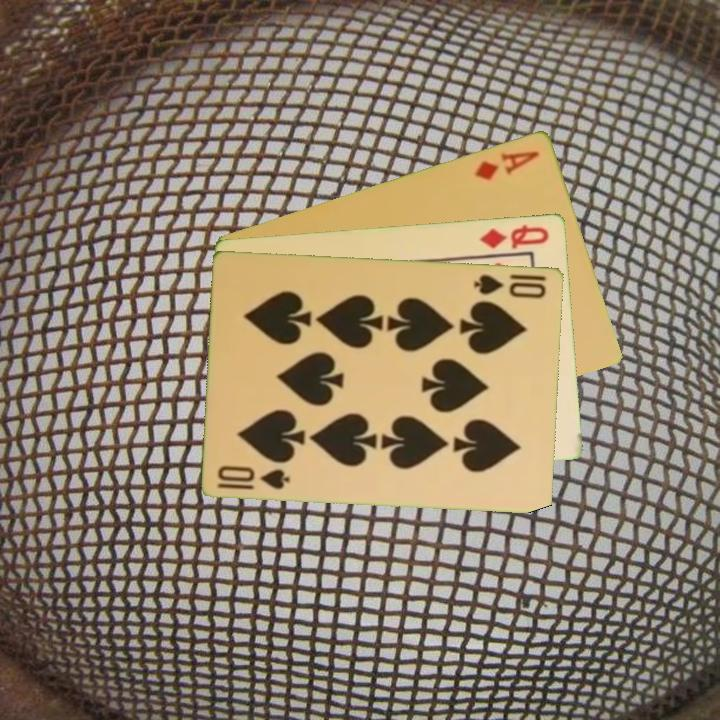10s: (214, 461, 293, 492), (471, 270, 549, 301)
Ad: (471, 146, 543, 183)
Qd: (477, 221, 552, 252)
